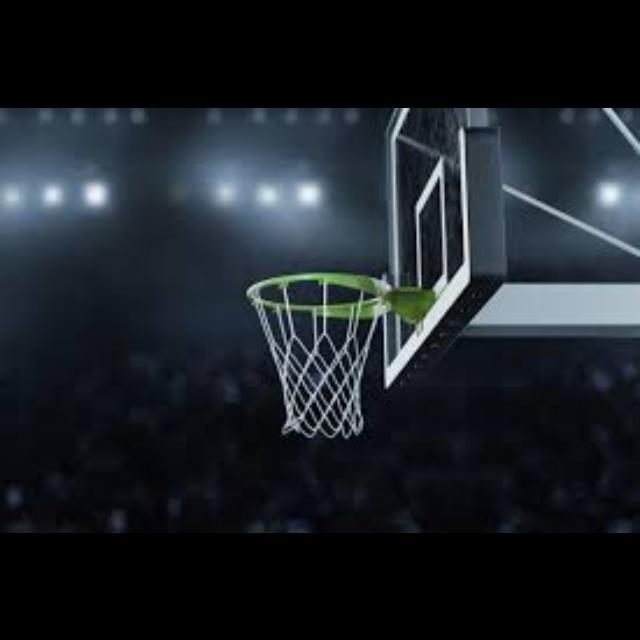rim: (247, 272, 383, 438)
